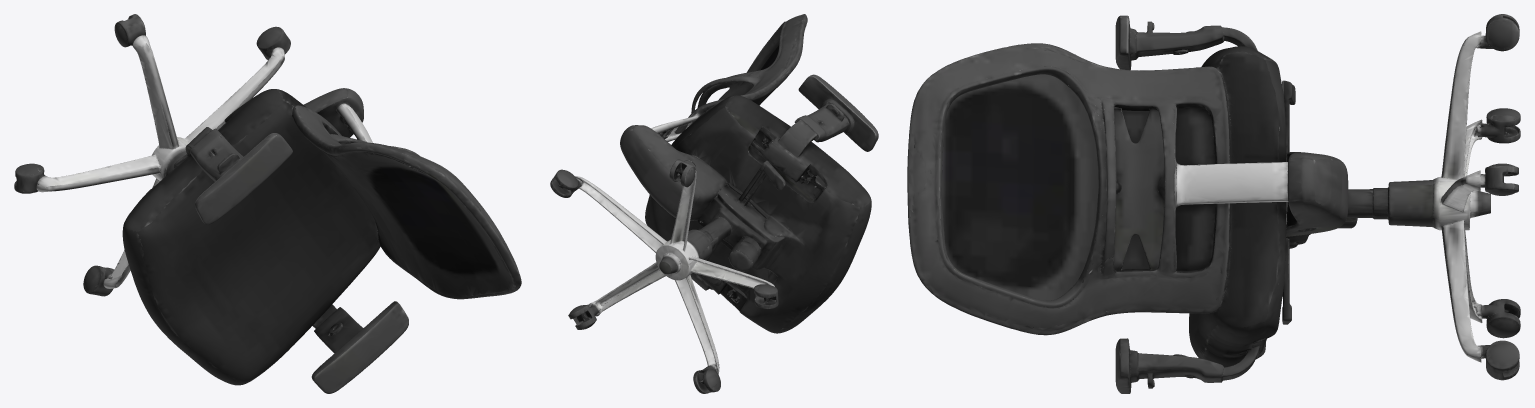
3 views of the same model, side by side, from view 1: azimuth 30°, elevation 25°; view 2: azimuth 150°, elevation 25°; view 3: azimuth 270°, elevation 25° (orthographic). The views are drawn at different scales.
Visible parts, largest first — view 1: Mesh_0.013; view 2: Mesh_0.013; view 3: Mesh_0.013.
Boxes of the visible parts, x1,y1,x2,y2 form: Mesh_0.013: [14, 14, 521, 393]; Mesh_0.013: [550, 14, 878, 393]; Mesh_0.013: [907, 14, 1520, 393].
Bounding box in the file's own units: 0.0212 × 0.0209 × 0.0323.
Materials: 1 (1 with a texture image).
